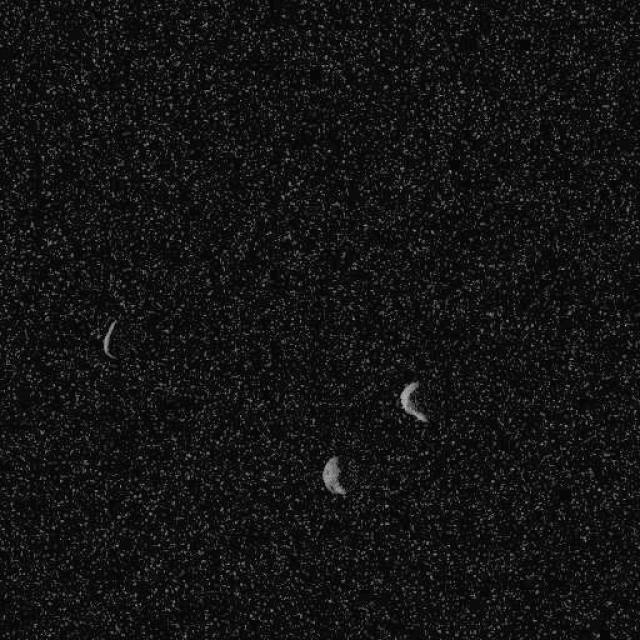D2: (398, 380, 428, 424), (322, 455, 346, 496), (100, 318, 119, 360)
